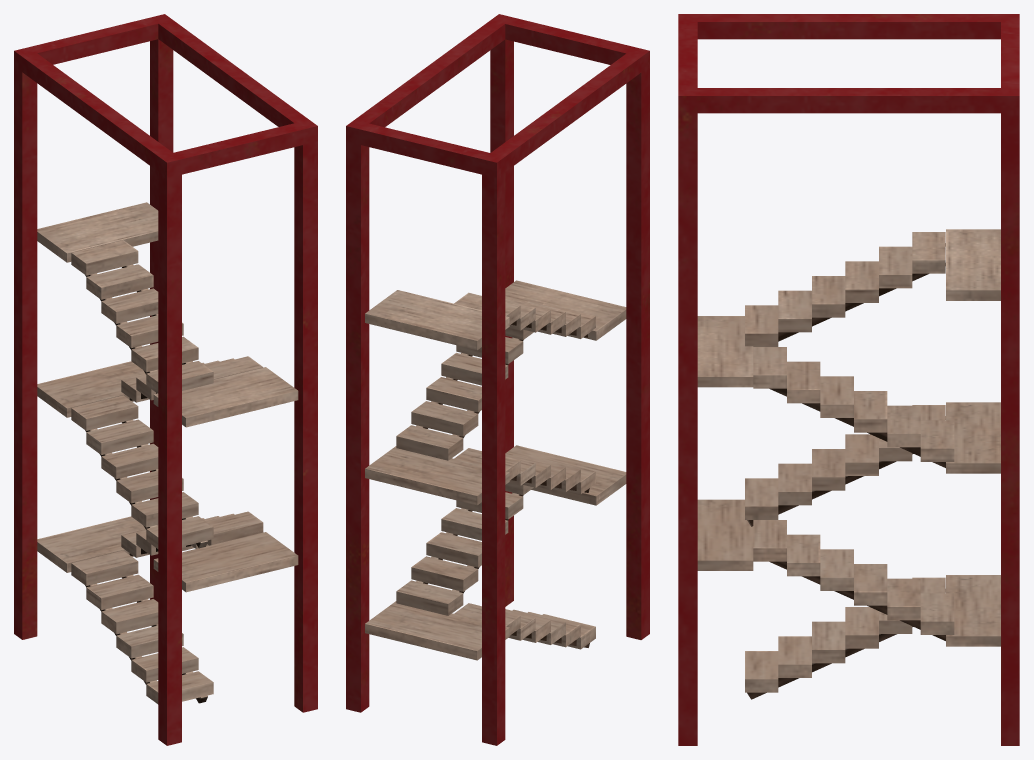
File: stairs.fbx
3 renders of one model, left to right at view 1: azimuth 30°, elevation 25°; view 2: azimuth 150°, elevation 25°; view 3: azimuth 270°, elevation 25°, orthographic. The views are drawn at different scales.
Visible parts, largest first — view 1: Cube.003, Cube.037, Cube.026, Cube.030, Cube.028, Cube.020, Cube.019, Cube.022, Cube.036, Cube.033, Cube.023; view 2: Cube.003, Cube.023, Cube.033, Cube.019, Cube.022, Cube.036, Cube.030, Cube.037, Cube.026, Cube.020, Cube.028; view 3: Cube.003, Cube.023, Cube.033, Cube.030, Cube.026, Cube.037, Cube.019, Cube.028, Cube.020, Cube.022, Cube.036, Cube.035 (+1 smaller).
Boxes of the visible parts, x1,y1,x2,y2 form: Cube.003: [14, 14, 317, 745]; Cube.037: [71, 550, 213, 703]; Cube.026: [71, 395, 213, 548]; Cube.030: [71, 240, 213, 393]; Cube.028: [153, 532, 298, 592]; Cube.020: [153, 367, 298, 427]; Cube.019: [37, 202, 158, 262]; Cube.022: [37, 361, 158, 417]; Cube.036: [37, 516, 158, 572]; Cube.033: [121, 511, 263, 557]; Cube.023: [121, 356, 263, 402]; Cube.003: [346, 14, 649, 745]; Cube.023: [396, 327, 533, 460]; Cube.033: [396, 483, 533, 615]; Cube.019: [365, 290, 509, 350]; Cube.022: [365, 446, 509, 505]; Cube.036: [365, 601, 509, 660]; Cube.030: [454, 292, 595, 338]; Cube.037: [454, 603, 595, 649]; Cube.026: [454, 448, 595, 494]; Cube.020: [505, 280, 626, 340]; Cube.028: [505, 445, 626, 505]; Cube.003: [678, 14, 1019, 745]; Cube.023: [753, 347, 954, 461]; Cube.033: [753, 520, 954, 634]; Cube.030: [745, 232, 945, 346]; Cube.026: [745, 405, 945, 519]; Cube.037: [745, 577, 945, 692]; Cube.019: [946, 229, 1000, 300]; Cube.028: [697, 499, 753, 570]; Cube.020: [697, 316, 753, 387]; Cube.022: [946, 402, 1000, 473]; Cube.036: [946, 575, 1000, 646]; Cube.035: [769, 561, 945, 640].
Size of the model in its own units: 837 by 3093 by 1471.
1 material, 1 textured.
